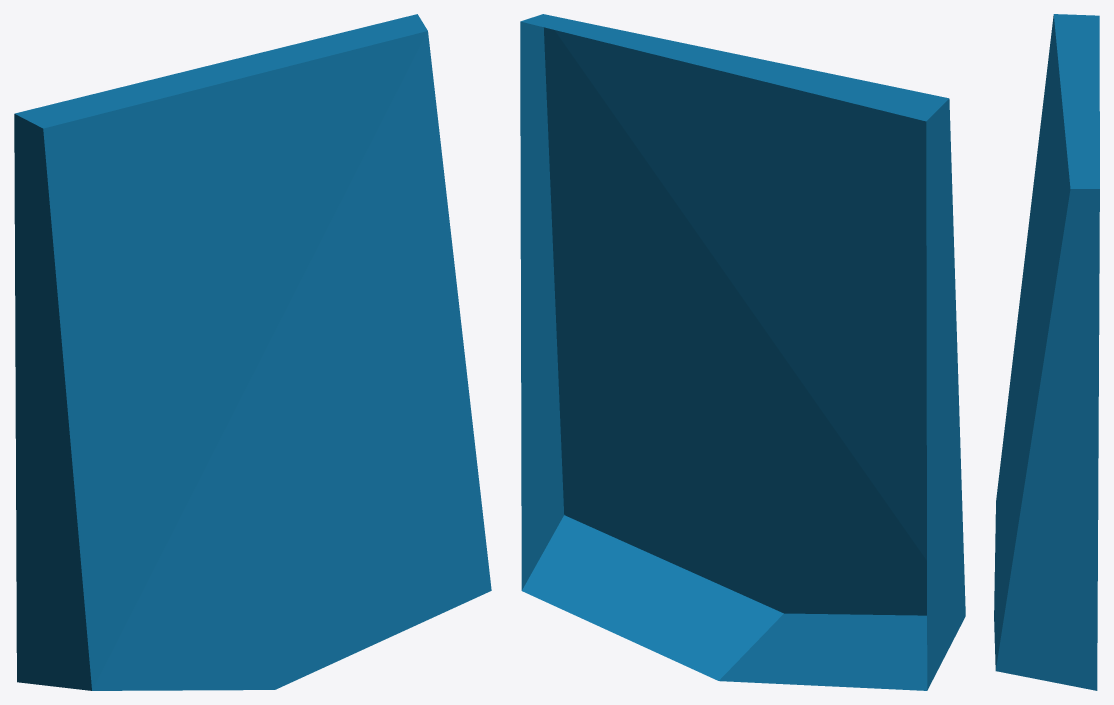
Rendered from Teja1Pivoteada.fbx.
3 renders of one model, left to right at view 1: azimuth 30°, elevation 25°; view 2: azimuth 150°, elevation 25°; view 3: azimuth 270°, elevation 25°, orthographic. The views are drawn at different scales.
Visible parts, largest first — view 1: Teja1_LOD1; view 2: Teja1_LOD1; view 3: Teja1_LOD1.
Part boxes in pixels (<box>): Teja1_LOD1: <box>14,14,491,690</box>; Teja1_LOD1: <box>520,14,965,690</box>; Teja1_LOD1: <box>994,14,1099,690</box>.
Size of the model in its own units: 15.23 by 85.82 by 61.51.
